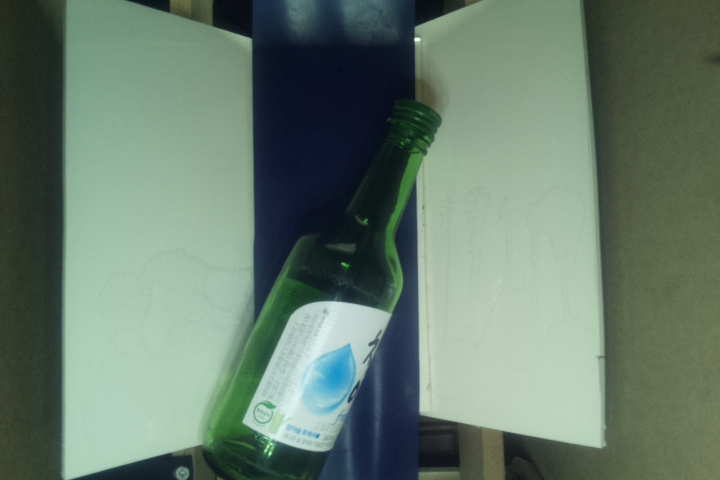soju: (202, 99, 446, 480)
